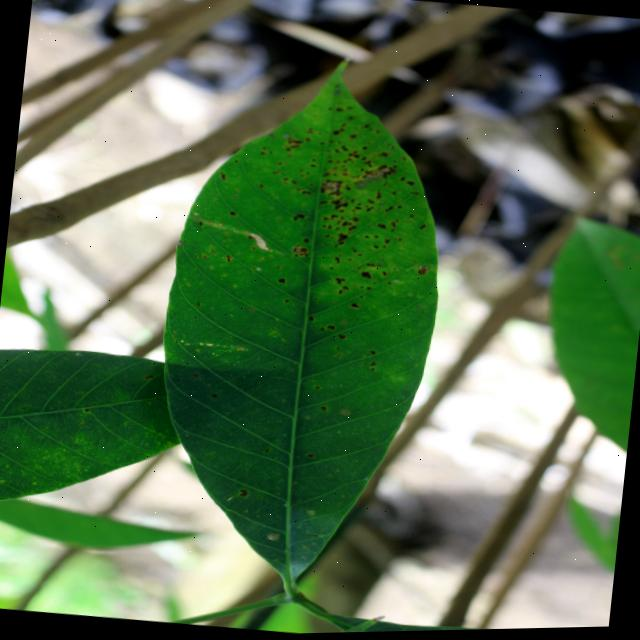Colletotrichum: (360, 271, 372, 279), (277, 278, 286, 285)
